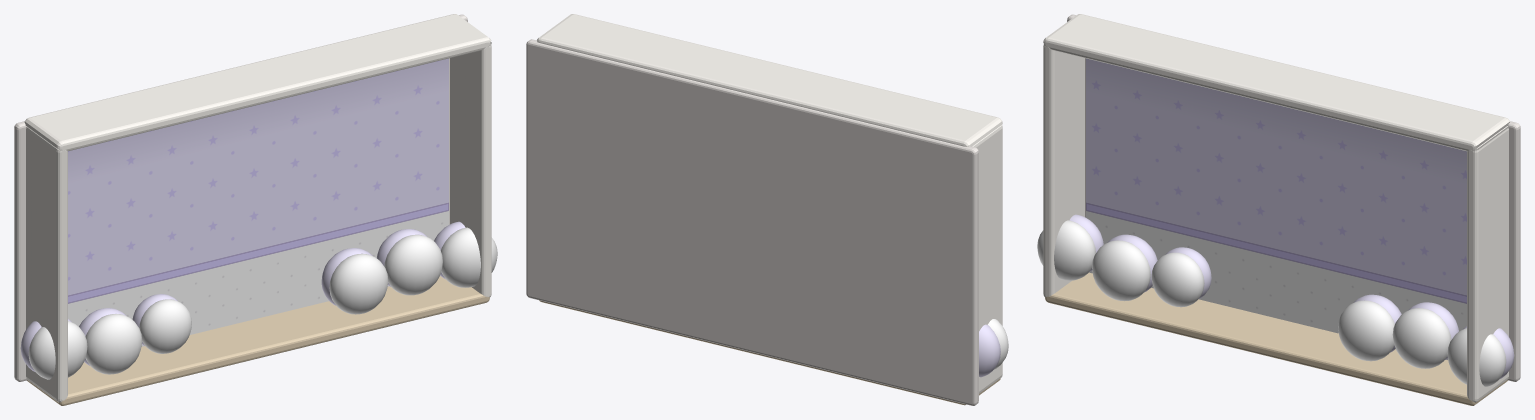
Rendered from room_sky.glb.
3 renders of one model, left to right at view 1: azimuth 30°, elevation 25°; view 2: azimuth 150°, elevation 25°; view 3: azimuth 330°, elevation 25°, orthographic.
Visible parts, largest first — view 1: room_sky; view 2: room_sky; view 3: room_sky.
Boxes of the visible parts, x1,y1,x2,y2 form: room_sky: (14,14,497,405); room_sky: (526,14,1008,405); room_sky: (1037,14,1520,405).
Bounding box in the file's own units: 68 × 37 × 9.4.
6 materials, 1 textured.
